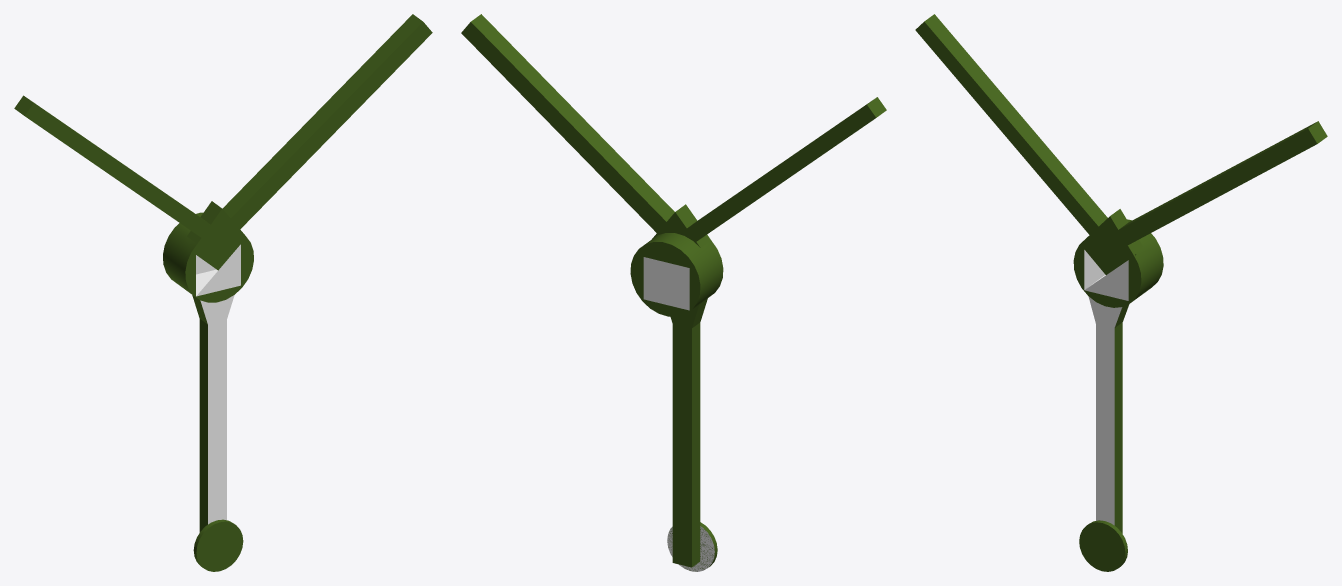
The model's file is FlakStand.dae.
3 views of the same model, side by side, from view 1: azimuth 30°, elevation 25°; view 2: azimuth 150°, elevation 25°; view 3: azimuth 330°, elevation 25° (orthographic). The views are drawn at different scales.
Parts seen in each view (by area): view 1: stand (×4); view 2: stand (×3); view 3: stand (×4).
Boxes of the visible parts, x1=… form: stand (×4): x1=14, y1=14, x2=432, y2=571; stand (×3): x1=461, y1=14, x2=886, y2=571; stand (×4): x1=915, y1=14, x2=1327, y2=571.
Bounding box in the file's own units: 68.99 × 7.4 × 82.54.
